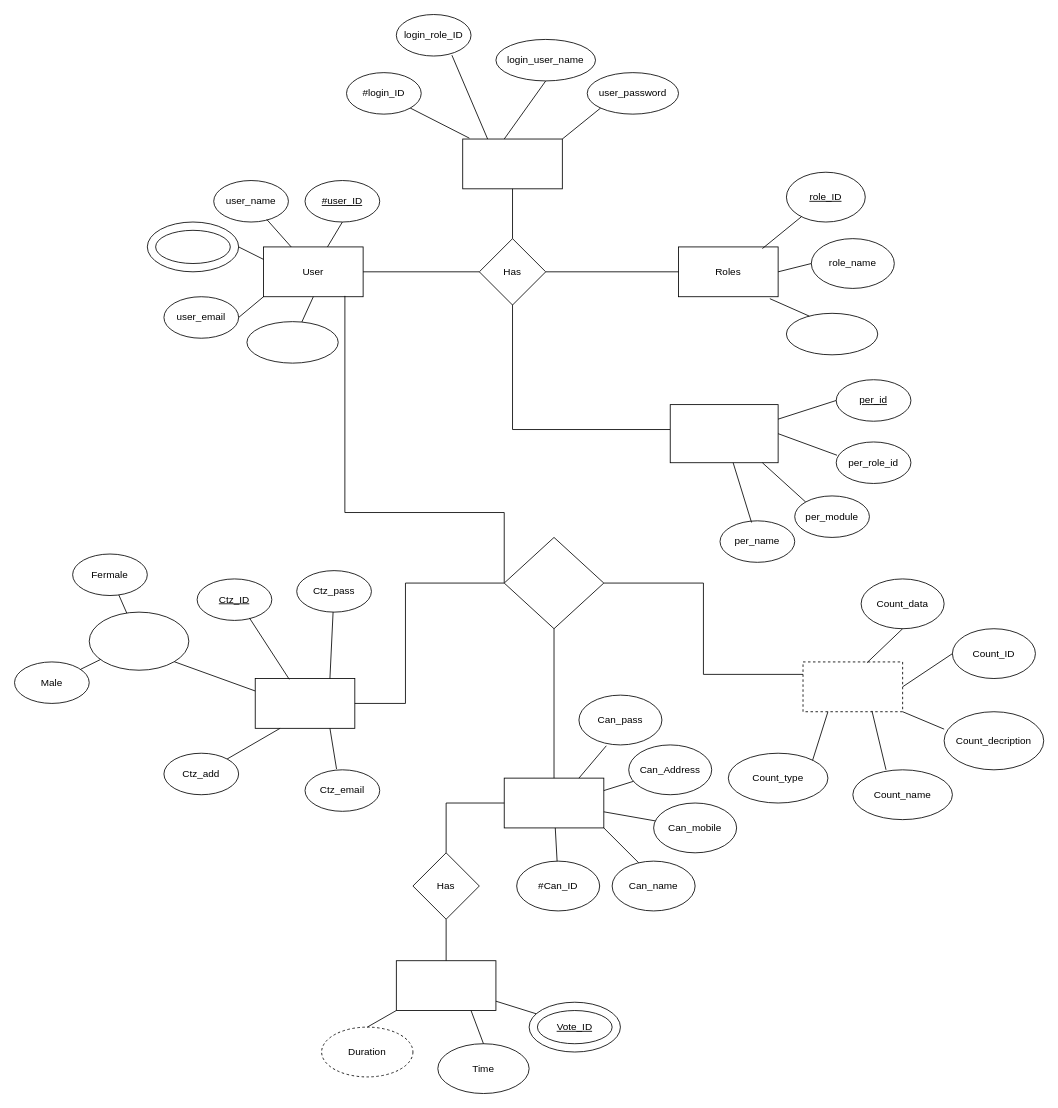
Image size: 1058x1108. Some labels were removed from this diagram. Here are the shapes that lost their labels. From the top down, the centre of each, then its label:
At pixel 512 163: "L ogin".
At pixel 192 246: "User_No.".
At pixel 292 342: "user_address".
At pixel 832 333: "role_description".
At pixel 723 433: "Permission".
At pixel 553 583: "Manage".
At pixel 138 640: "Ctz_name".
At pixel 304 703: "Citizen".
At pixel 852 686: "Counting".
At pixel 553 802: "Candidate".
At pixel 445 985: "Vote".
